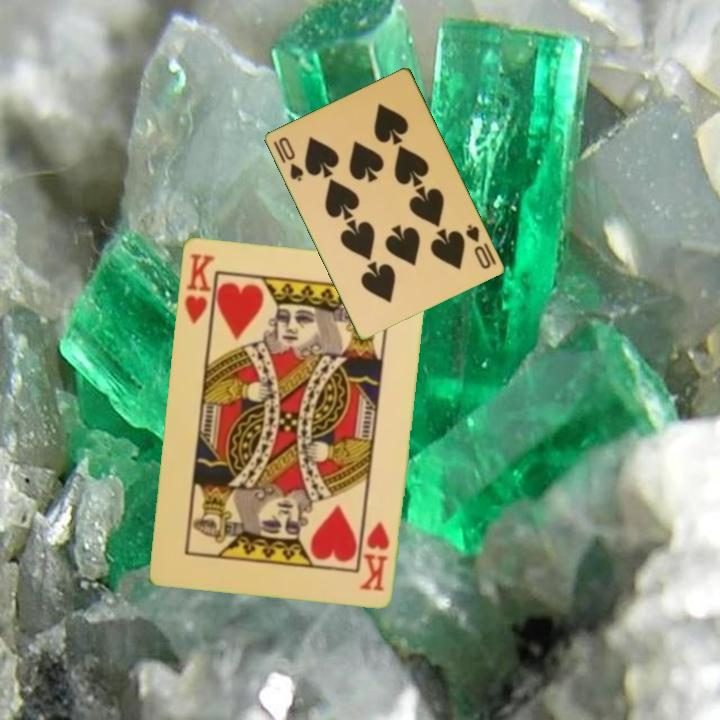10s: (270, 133, 307, 185), (462, 221, 494, 272)
Kh: (181, 249, 218, 332), (356, 517, 392, 594)
